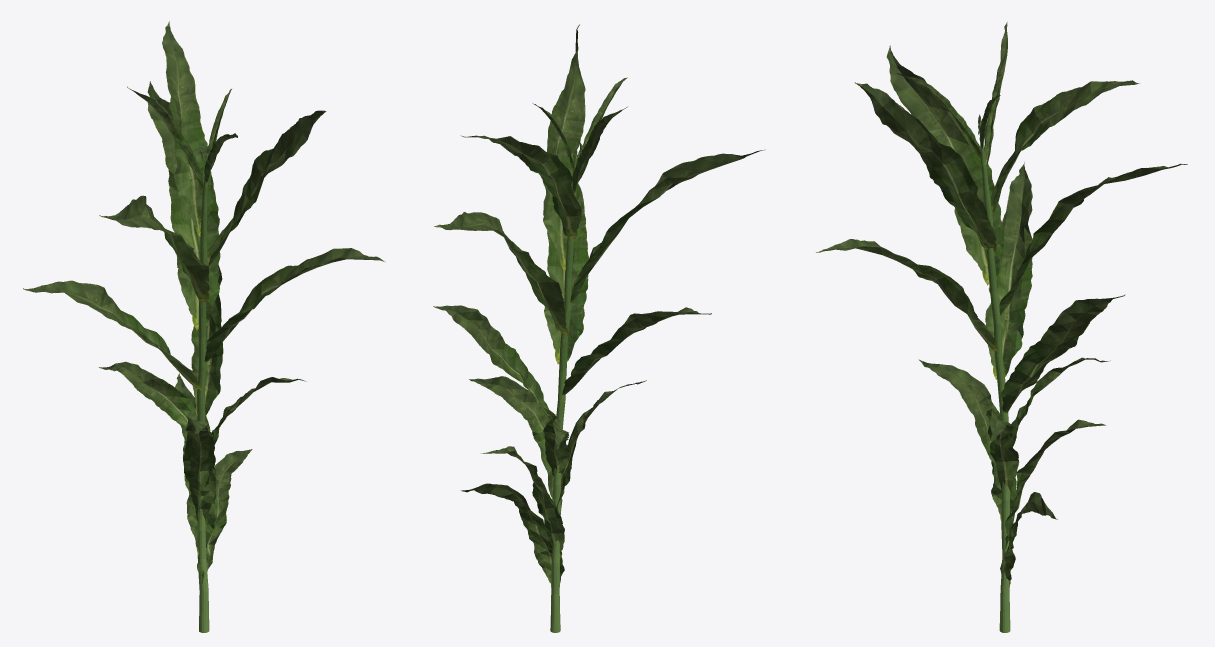
File: sorghum_variant_2.dae
The picture shows the model from 3 angles, left to right: view 1: azimuth 30°, elevation 25°; view 2: azimuth 150°, elevation 25°; view 3: azimuth 270°, elevation 25°; orthographic projection. The views are drawn at different scales.
Parts seen in each view (by area): view 1: Leaves, Stem; view 2: Leaves, Stem; view 3: Leaves, Stem.
Boxes of the visible parts, bbox=[...] form: Leaves: bbox=[23, 21, 385, 583]; Stem: bbox=[197, 156, 209, 632]; Leaves: bbox=[433, 24, 765, 588]; Stem: bbox=[550, 155, 576, 632]; Leaves: bbox=[816, 22, 1187, 585]; Stem: bbox=[980, 133, 1010, 632].
Size of the model in its own units: 0.8245 by 0.9713 by 1.59.
